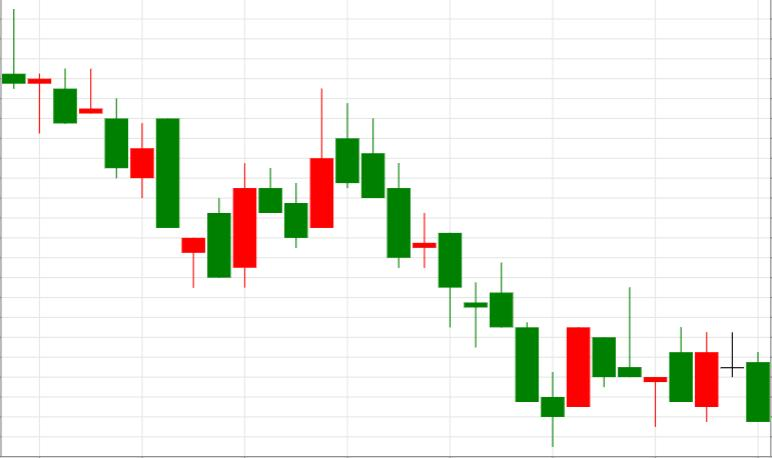morning_star_rise: (335, 102, 590, 446)
